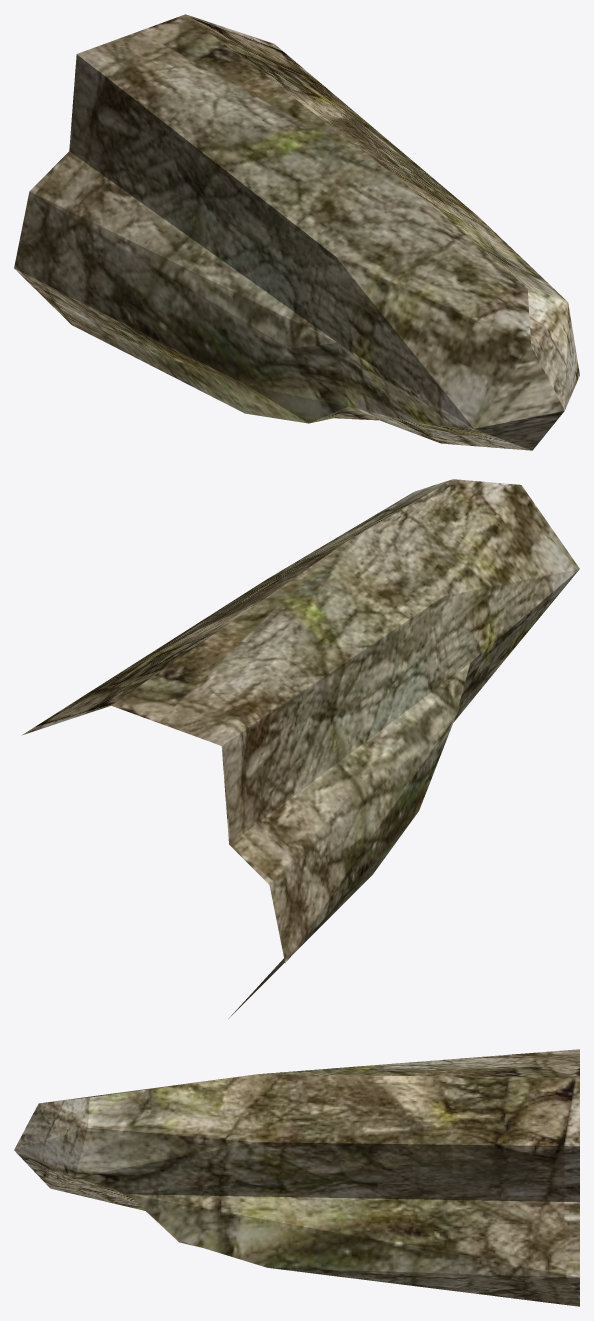
The picture shows the model from 3 angles, top to bottom: view 1: azimuth 30°, elevation 25°; view 2: azimuth 150°, elevation 25°; view 3: azimuth 270°, elevation 25°; orthographic projection. The views are drawn at different scales.
Parts seen in each view (by area): view 1: model_Object58; view 2: model_Object58; view 3: model_Object58.
Boxes of the visible parts, bbox=[...] form: model_Object58: bbox=[14, 14, 579, 450]; model_Object58: bbox=[22, 479, 579, 1018]; model_Object58: bbox=[14, 1049, 579, 1306].
Bounding box in the file's own units: 2.65 × 2.81 × 6.72.
Materials: 1 (1 with a texture image).
